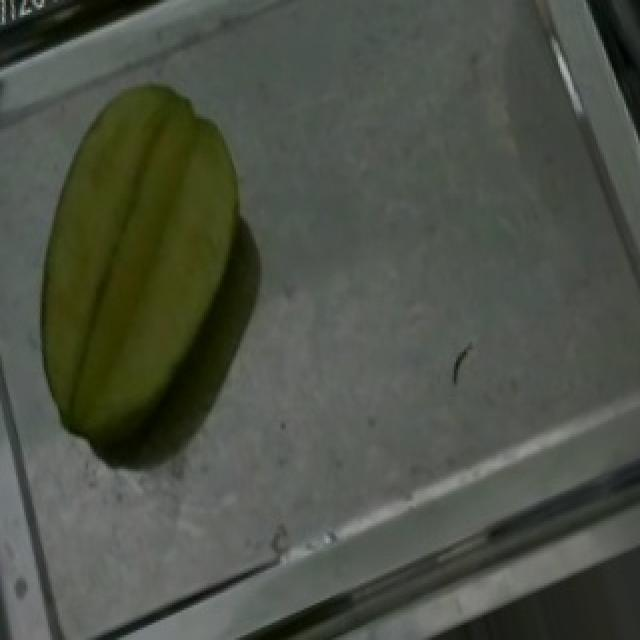fruit: (12, 44, 310, 442)
